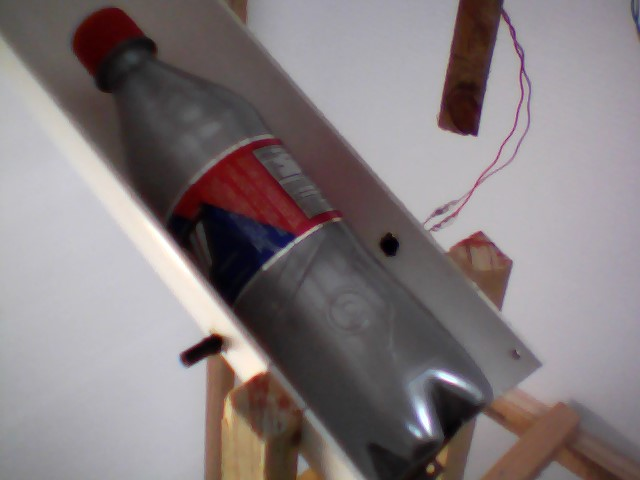plastico: (66, 3, 505, 479)
